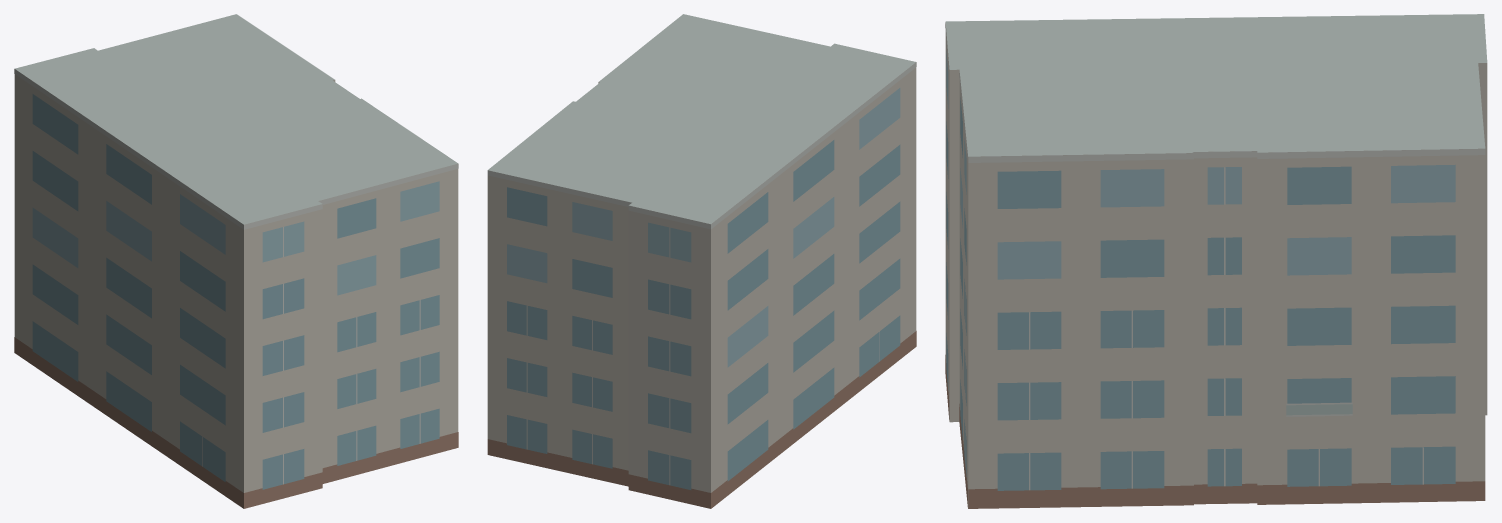
File: survey-upis-33013895.glb
The picture shows the model from 3 angles, left to right: view 1: azimuth 30°, elevation 25°; view 2: azimuth 150°, elevation 25°; view 3: azimuth 270°, elevation 25°; orthographic projection. The views are drawn at different scales.
Parts seen in each view (by area): view 1: survey-upis-33013895.tmp; view 2: survey-upis-33013895.tmp; view 3: survey-upis-33013895.tmp.
Part boxes in pixels (x1,y1,x2,y2): survey-upis-33013895.tmp: (14, 14, 458, 508); survey-upis-33013895.tmp: (487, 14, 916, 508); survey-upis-33013895.tmp: (945, 14, 1487, 508).
Bounding box in the file's own units: 11.74 × 13.5 × 18.83.
